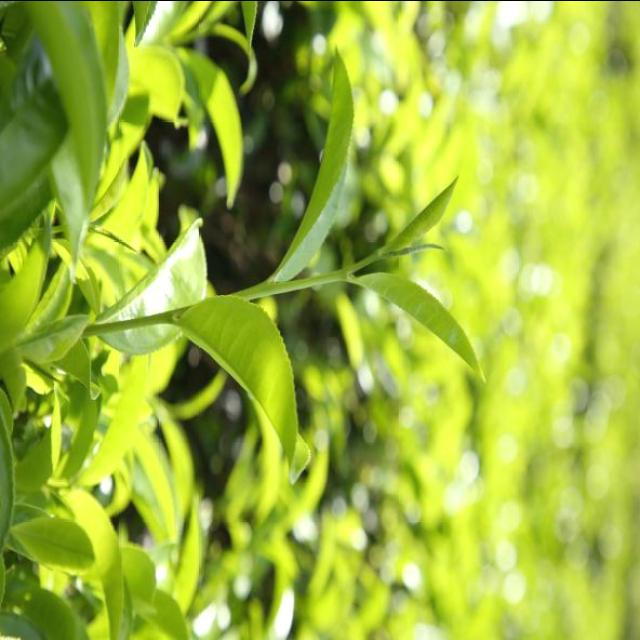Stem: (335, 269, 350, 279)
